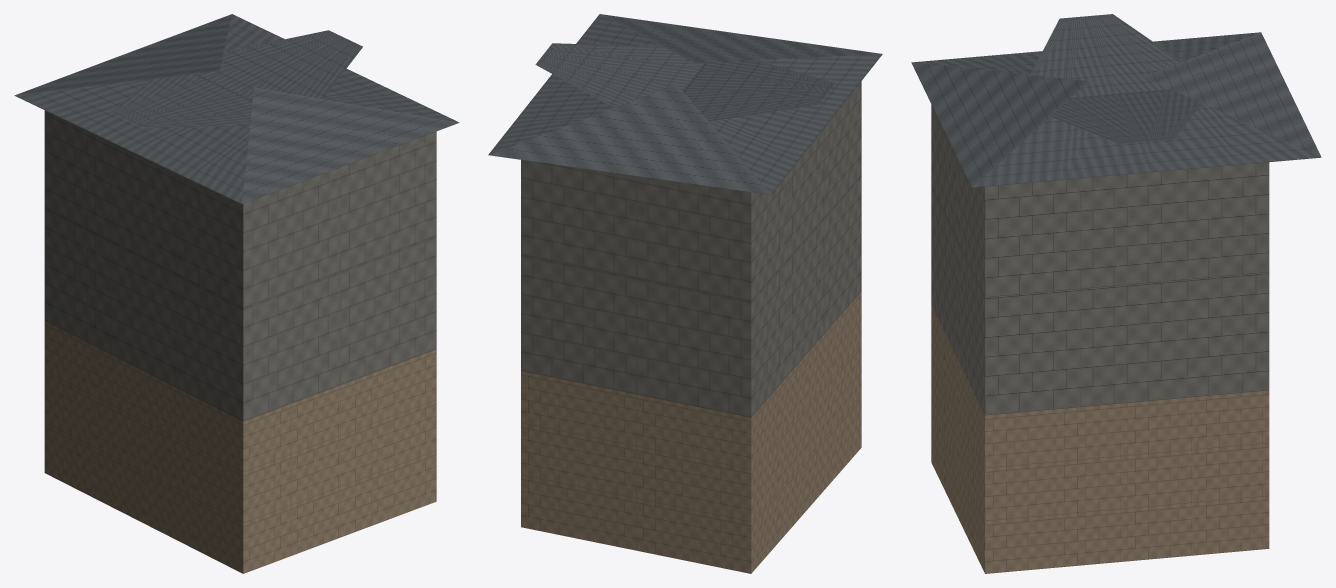
File: bld_c32_47_248.gltf
The picture shows the model from 3 angles, left to right: view 1: azimuth 30°, elevation 25°; view 2: azimuth 150°, elevation 25°; view 3: azimuth 270°, elevation 25°; orthographic projection. The views are drawn at different scales.
Visible parts, largest first — view 1: bld_c32_47_248; view 2: bld_c32_47_248; view 3: bld_c32_47_248.
Part boxes in pixels (x1,y1,x2,y2): bld_c32_47_248: (14,14,459,573); bld_c32_47_248: (488,14,882,573); bld_c32_47_248: (911,14,1321,573).
Size of the model in its own units: 10.74 by 13.7 by 11.97.
Materials: 3 (3 with a texture image).
